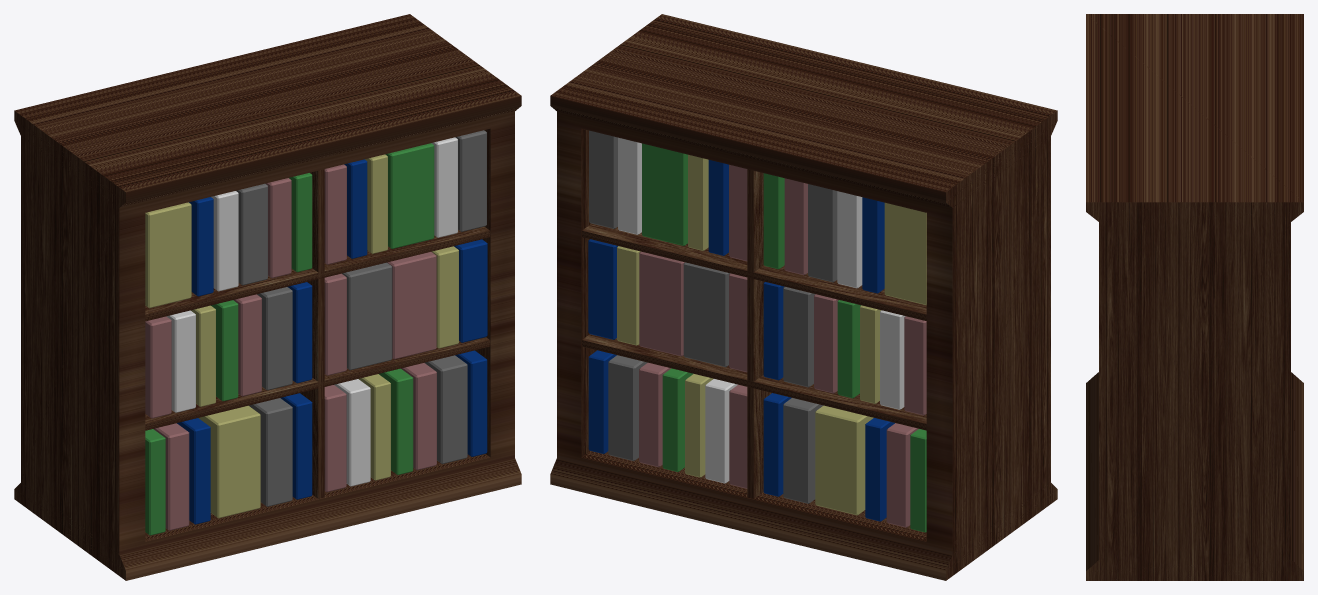
File: Bookcase.fbx
3 views of the same model, side by side, from view 1: azimuth 30°, elevation 25°; view 2: azimuth 150°, elevation 25°; view 3: azimuth 270°, elevation 25° (orthographic). The views are drawn at different scales.
Visible parts, largest first — view 1: polySurface1, pCube60, pCube46, pCube20, pCube26, pCube52, pCube4, pCube5, pCube3, pCube56, pCube42, pCube35 (+29 smaller); view 2: polySurface1, pCube4, pCube5, pCube60, pCube3, pCube46, pCube52, pCube20, pCube26, pCube56, pCube42, pCube35 (+29 smaller); view 3: polySurface1.
Boxes of the visible parts, box(x1,y1,x2,y2) form: polySurface1: box(14, 14, 521, 580); pCube60: box(198, 405, 260, 518); pCube46: box(342, 262, 392, 370); pCube20: box(385, 143, 434, 248); pCube26: box(145, 202, 191, 308); pCube52: box(387, 252, 436, 359); pCube4: box(145, 226, 490, 321); pCube5: box(300, 169, 324, 498); pCube3: box(145, 337, 490, 430); pCube56: box(249, 398, 292, 506); pCube42: box(424, 355, 467, 464); pCube35: box(257, 287, 292, 390); polySurface1: box(550, 14, 1057, 580); pCube4: box(582, 223, 926, 320); pCube5: box(747, 169, 771, 498); pCube60: box(815, 405, 873, 515); pCube3: box(582, 334, 926, 430); pCube46: box(683, 262, 730, 367); pCube52: box(639, 251, 684, 356); pCube20: box(642, 143, 687, 245); pCube26: box(884, 202, 926, 305); pCube56: box(783, 398, 823, 503); pCube42: box(608, 355, 647, 461); pCube35: box(783, 287, 815, 387); polySurface1: box(1086, 14, 1303, 580).
Size of the model in its own units: 9.71 by 9.11 by 4.75.
